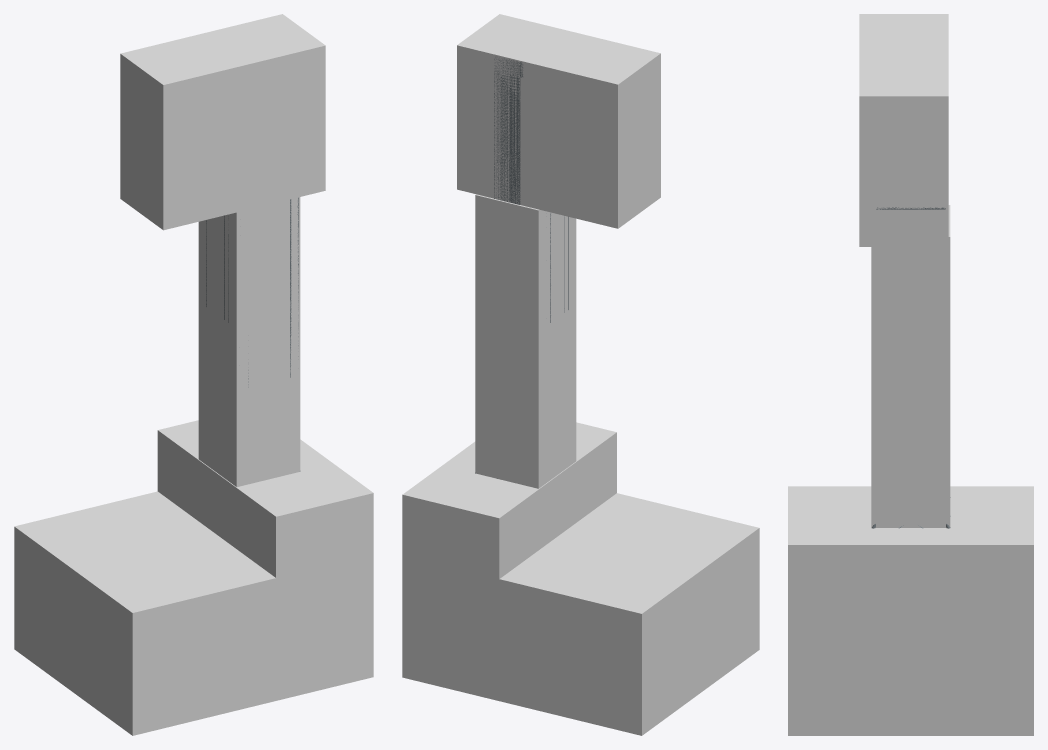
File: mobile-launcher.glb
3 renders of one model, left to right at view 1: azimuth 30°, elevation 25°; view 2: azimuth 150°, elevation 25°; view 3: azimuth 270°, elevation 25°, orthographic. The views are drawn at different scales.
Visible parts, largest first — view 1: COL_mobile-launcher, mobile-launcher; view 2: COL_mobile-launcher, mobile-launcher; view 3: COL_mobile-launcher.
Part boxes in pixels (x1,y1,x2,y2): COL_mobile-launcher: (14,14,373,735); mobile-launcher: (206,197,300,471); COL_mobile-launcher: (402,14,759,735); mobile-launcher: (475,57,568,478); COL_mobile-launcher: (788,14,1033,735).
Size of the model in its own units: 49.51 by 120 by 42.11.
2 materials, 2 textured.
